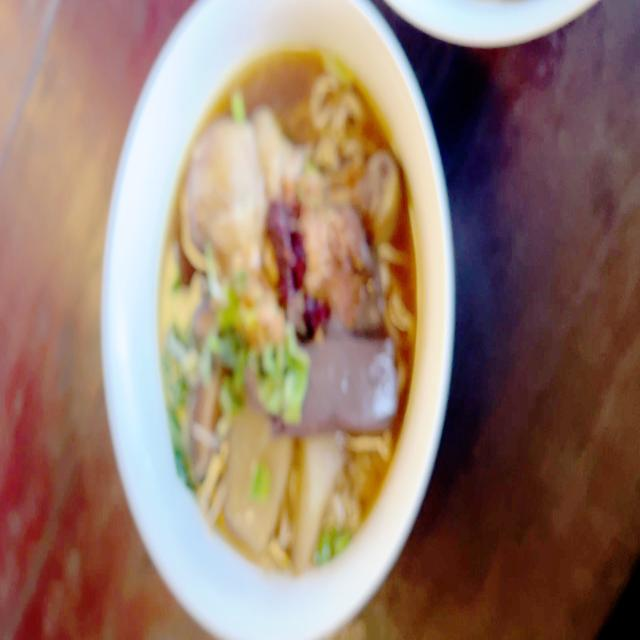boiled_chicken_blood_jelly: (297, 334, 397, 434)
chicken_drumstick: (187, 107, 396, 255)
daikon_radish: (225, 401, 282, 538), (298, 438, 342, 554)
noodle: (154, 43, 434, 556)
